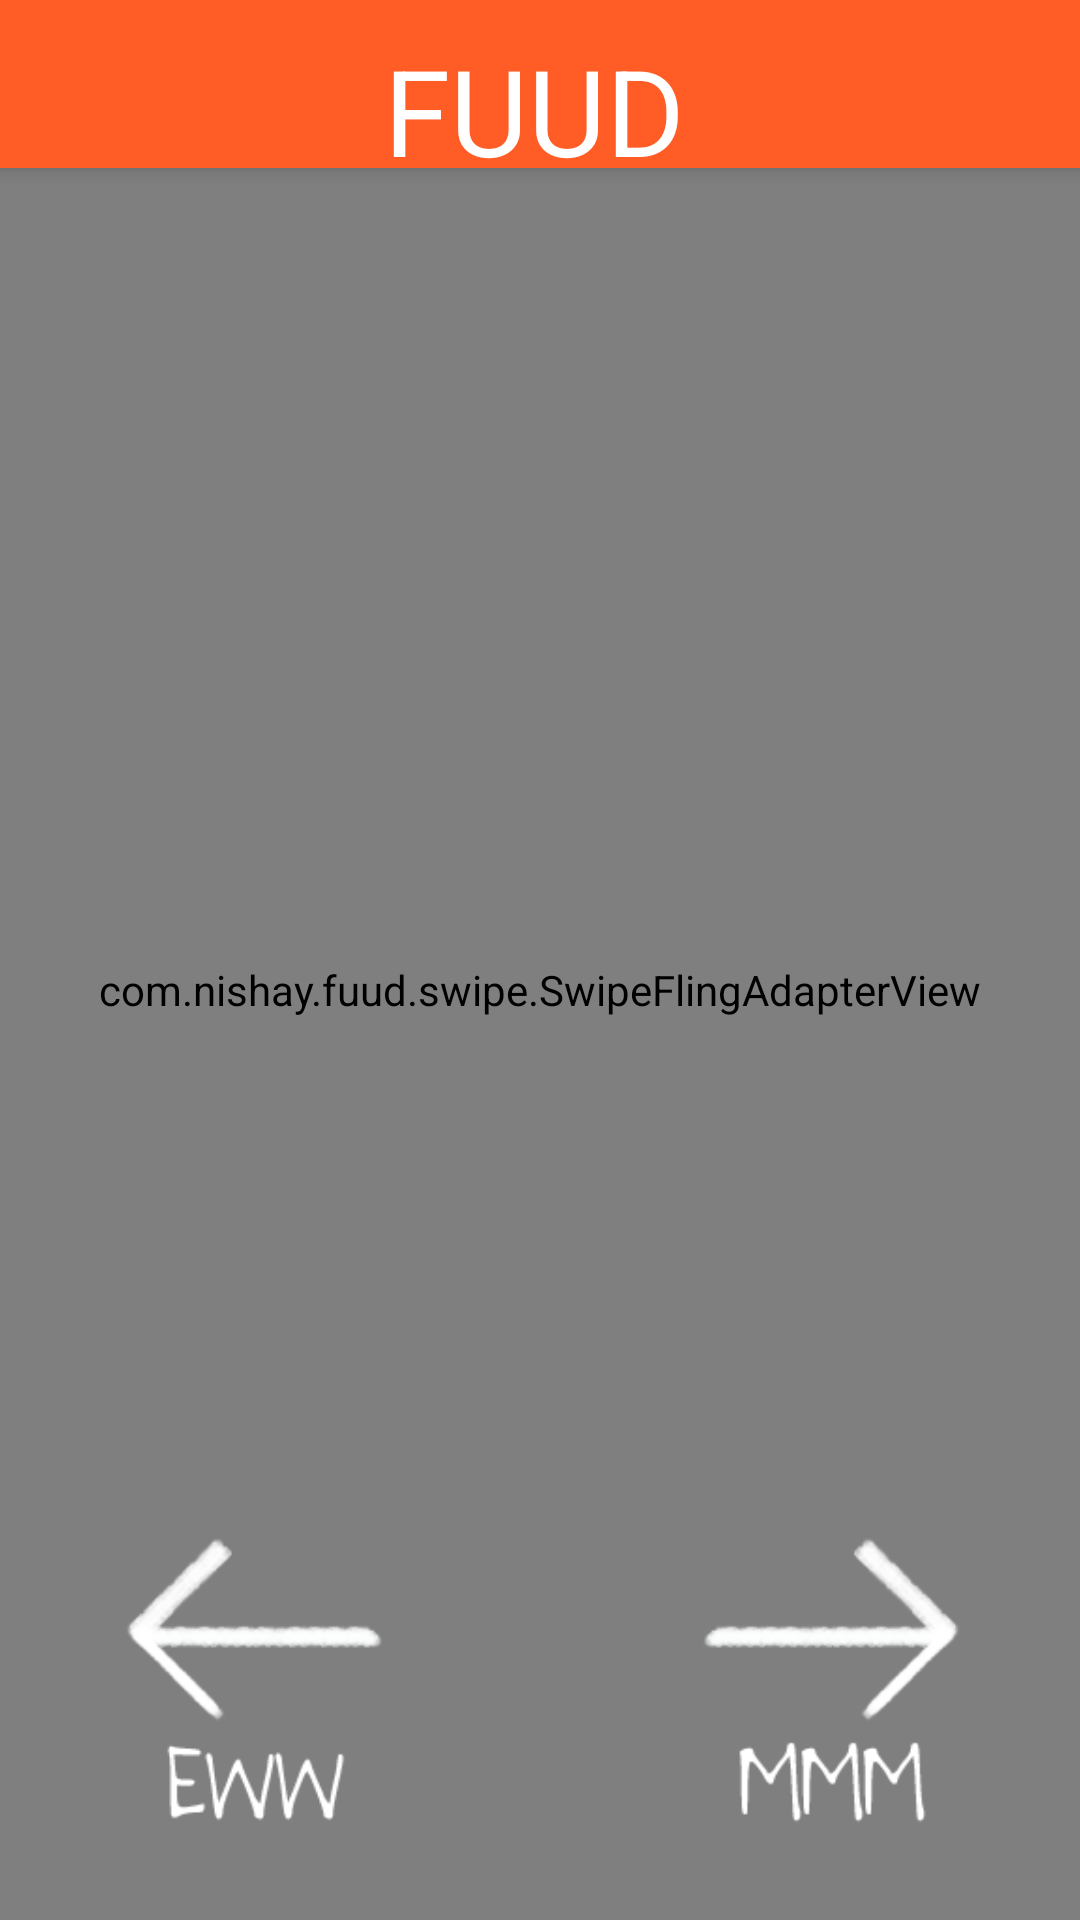

Point at icon controls on the screen. Image size 1080×1920, points as (x=x, y=y).
leftarrow: (x=254, y=1680)
rightarrow: (x=831, y=1680)
